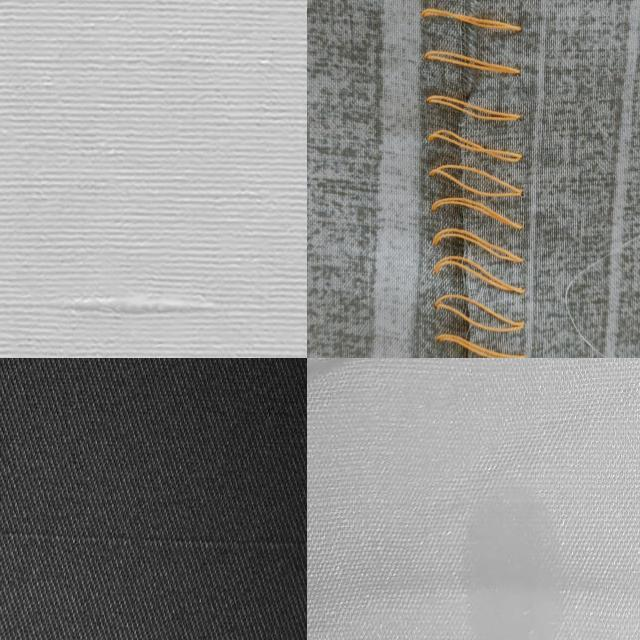Thread_other: (307, 358, 628, 474), (459, 485, 587, 640)
Thread_out: (402, 0, 568, 358)
stains: (0, 241, 301, 358), (0, 481, 307, 561)
